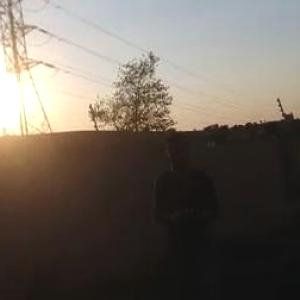follow: (142, 122, 226, 298)
